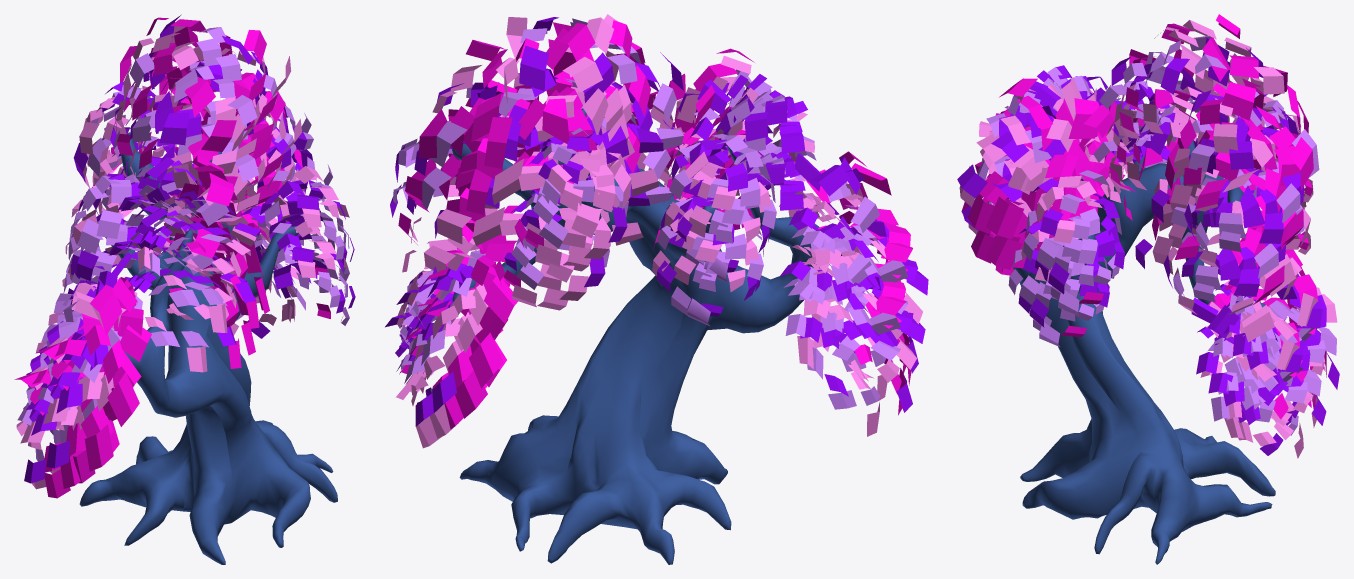
The model's file is Plaza_Tree1.fbx.
The picture shows the model from 3 angles, left to right: view 1: azimuth 30°, elevation 25°; view 2: azimuth 150°, elevation 25°; view 3: azimuth 270°, elevation 25°; orthographic projection. The views are drawn at different scales.
Parts seen in each view (by area): view 1: Plaza_Tree1; view 2: Plaza_Tree1; view 3: Plaza_Tree1.
Part boxes in pixels (x1,y1,x2,y2): Plaza_Tree1: (14,14,355,564); Plaza_Tree1: (385,14,928,564); Plaza_Tree1: (957,14,1339,564).
Size of the model in its own units: 151 by 177 by 127.
